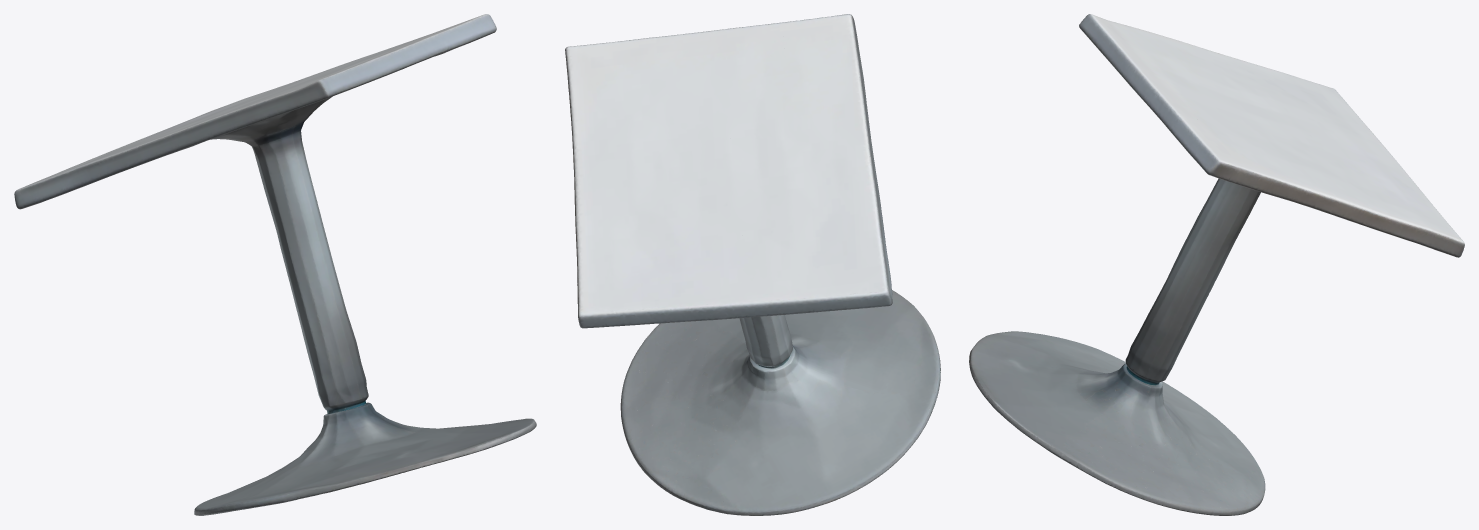
File: pixal3d.glb
The picture shows the model from 3 angles, left to right: view 1: azimuth 30°, elevation 25°; view 2: azimuth 150°, elevation 25°; view 3: azimuth 270°, elevation 25°; orthographic projection. The views are drawn at different scales.
Parts seen in each view (by area): view 1: world; view 2: world; view 3: world.
Part boxes in pixels (x1,y1,x2,y2): world: [14, 14, 536, 515]; world: [565, 14, 940, 515]; world: [969, 14, 1464, 515].
Size of the model in its own units: 0.8271 by 0.9215 by 0.9218.
Materials: 1 (1 with a texture image).
